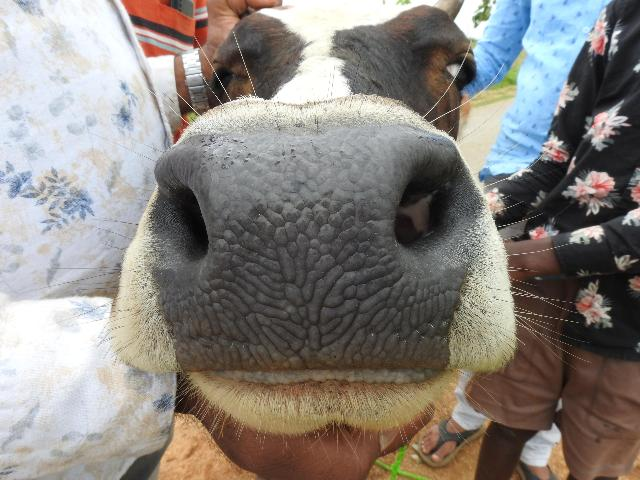Muzzle: (192, 136, 404, 368)
